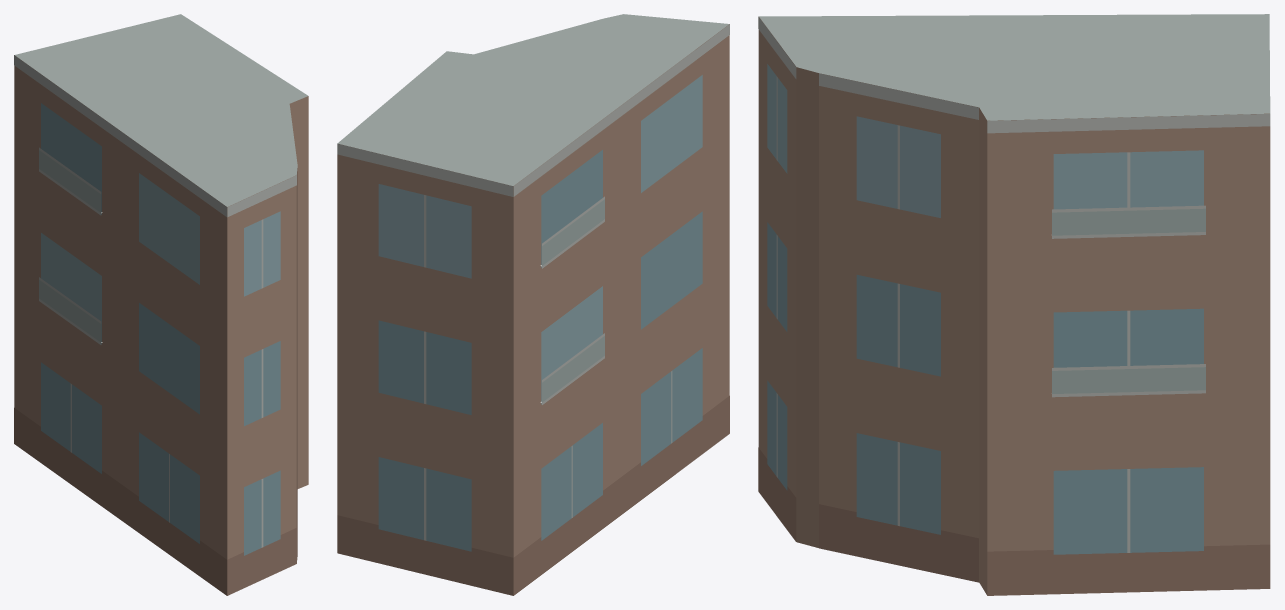
Rendered from survey-upis-32987205.glb.
The picture shows the model from 3 angles, left to right: view 1: azimuth 30°, elevation 25°; view 2: azimuth 150°, elevation 25°; view 3: azimuth 270°, elevation 25°; orthographic projection. The views are drawn at different scales.
Visible parts, largest first — view 1: survey-upis-32987205.tmp; view 2: survey-upis-32987205.tmp; view 3: survey-upis-32987205.tmp.
Part boxes in pixels (box(x1,y1,x2,y2)): survey-upis-32987205.tmp: box(14, 14, 308, 595); survey-upis-32987205.tmp: box(337, 14, 729, 595); survey-upis-32987205.tmp: box(758, 14, 1270, 595).
Bounding box in the file's own units: 4.44 × 9.15 × 8.94.
